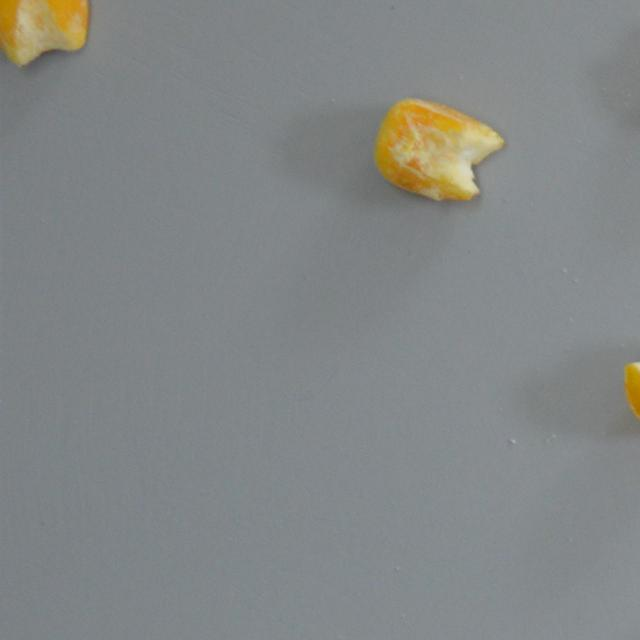pelicula: (372, 94, 503, 204), (0, 0, 89, 67), (621, 333, 640, 434)
